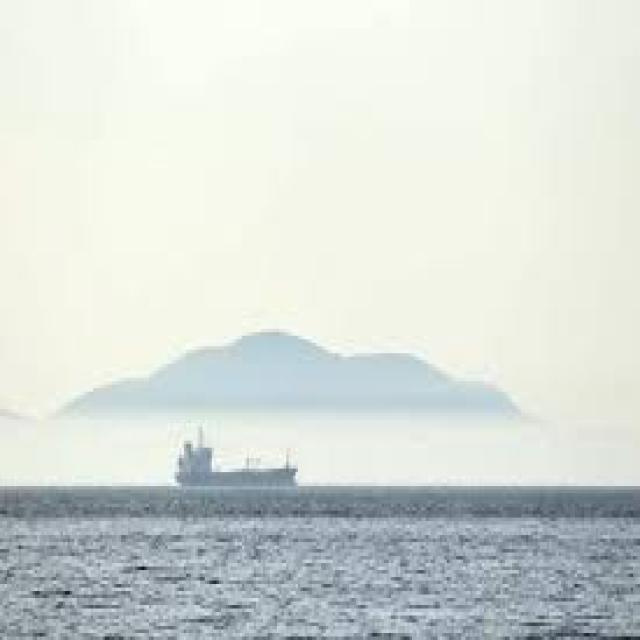cargoship: (154, 416, 298, 500)
